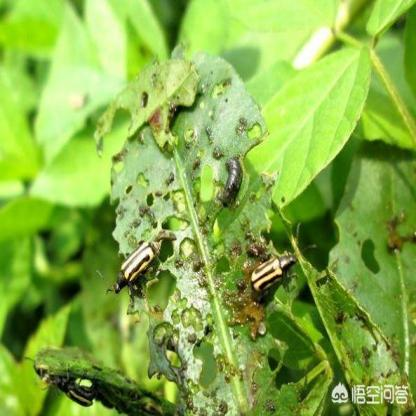beetle: (111, 237, 162, 297), (250, 246, 299, 303), (48, 364, 100, 410)
